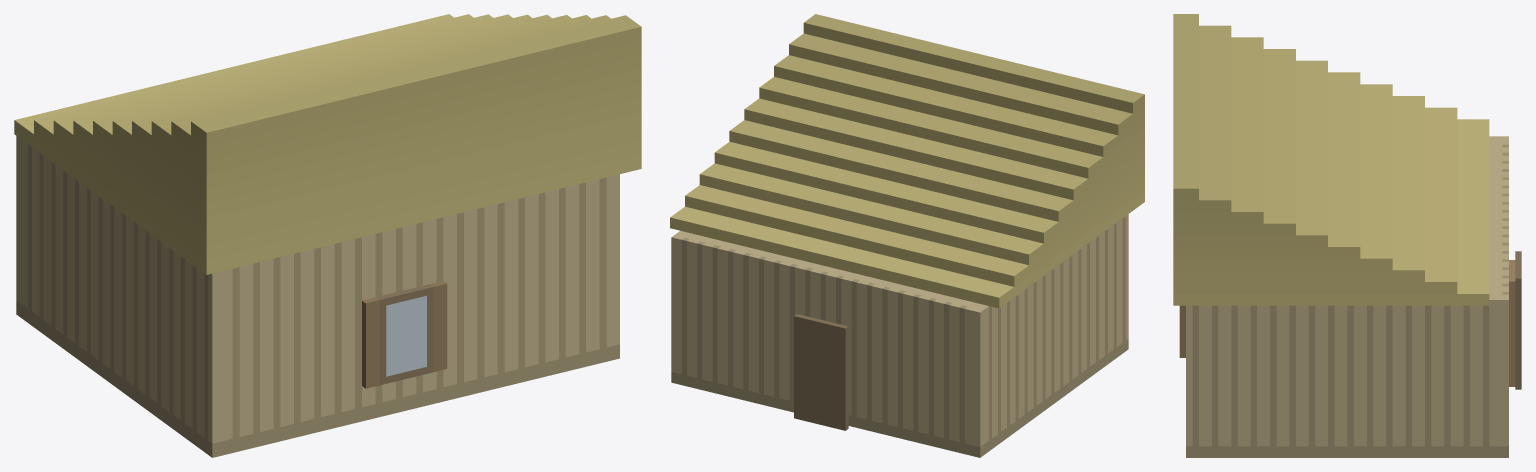
Rendered from choza_curandero_03.glb.
The picture shows the model from 3 angles, left to right: view 1: azimuth 30°, elevation 25°; view 2: azimuth 150°, elevation 25°; view 3: azimuth 270°, elevation 25°; orthographic projection. The views are drawn at different scales.
Parts seen in each view (by area): view 1: choza_curandero_03; view 2: choza_curandero_03; view 3: choza_curandero_03.
Part boxes in pixels (x1,y1,x2,y2): choza_curandero_03: (14,14,641,457); choza_curandero_03: (670,14,1144,457); choza_curandero_03: (1173,14,1521,457).
Bounding box in the file's own units: 6.4 × 4.7 × 5.4.
